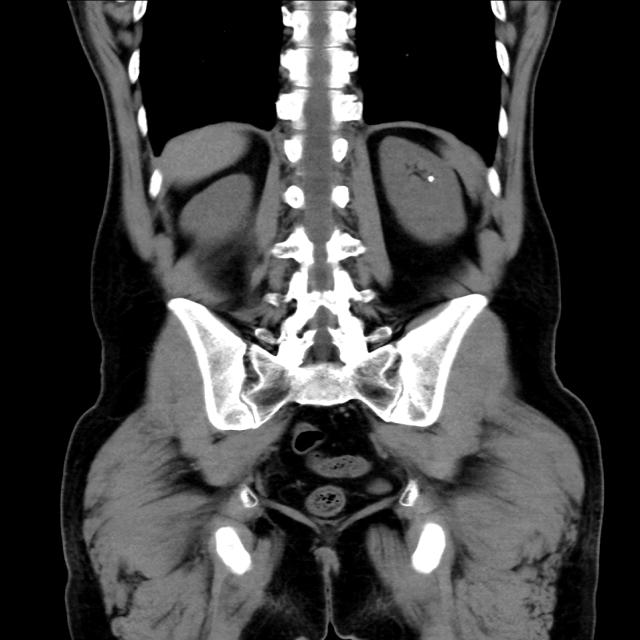kidneystone: (426, 175, 435, 182)
